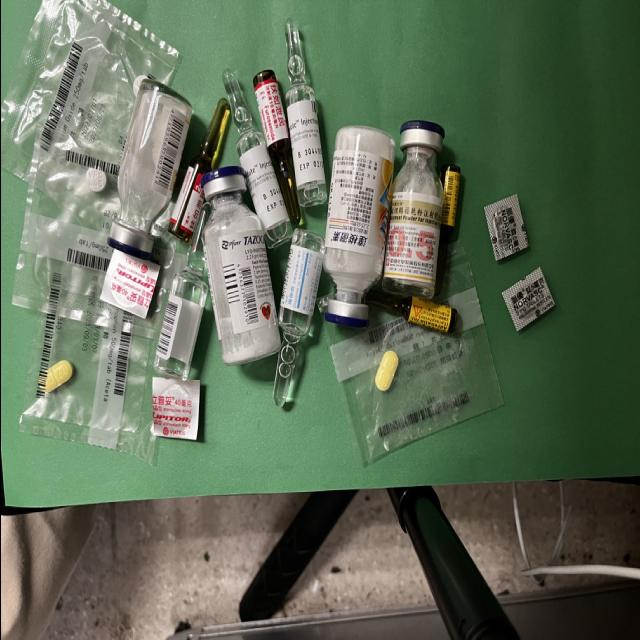Ampoules: (222, 70, 292, 247), (153, 202, 210, 380), (168, 99, 230, 242), (273, 229, 322, 407), (284, 19, 326, 207), (252, 71, 300, 226), (362, 290, 456, 334), (432, 165, 460, 297)
Vials: (200, 167, 280, 365), (108, 79, 192, 260), (322, 126, 394, 327), (380, 121, 443, 299)
